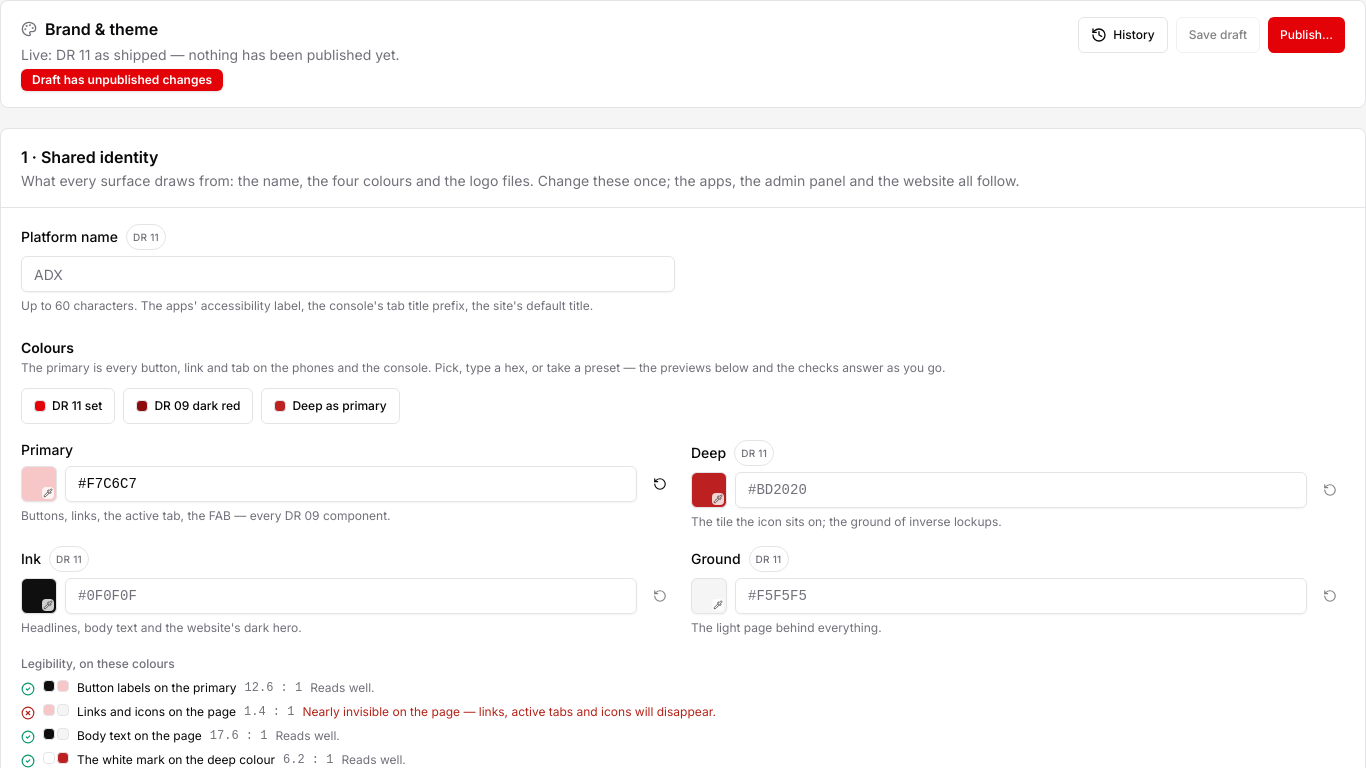
Test: saving and publishing › publish shows the flagged checks, sends the note, and re-reads the brand
Click the button with test id "brand-publish-open" at (1306, 35), box [1268, 17, 1345, 53]
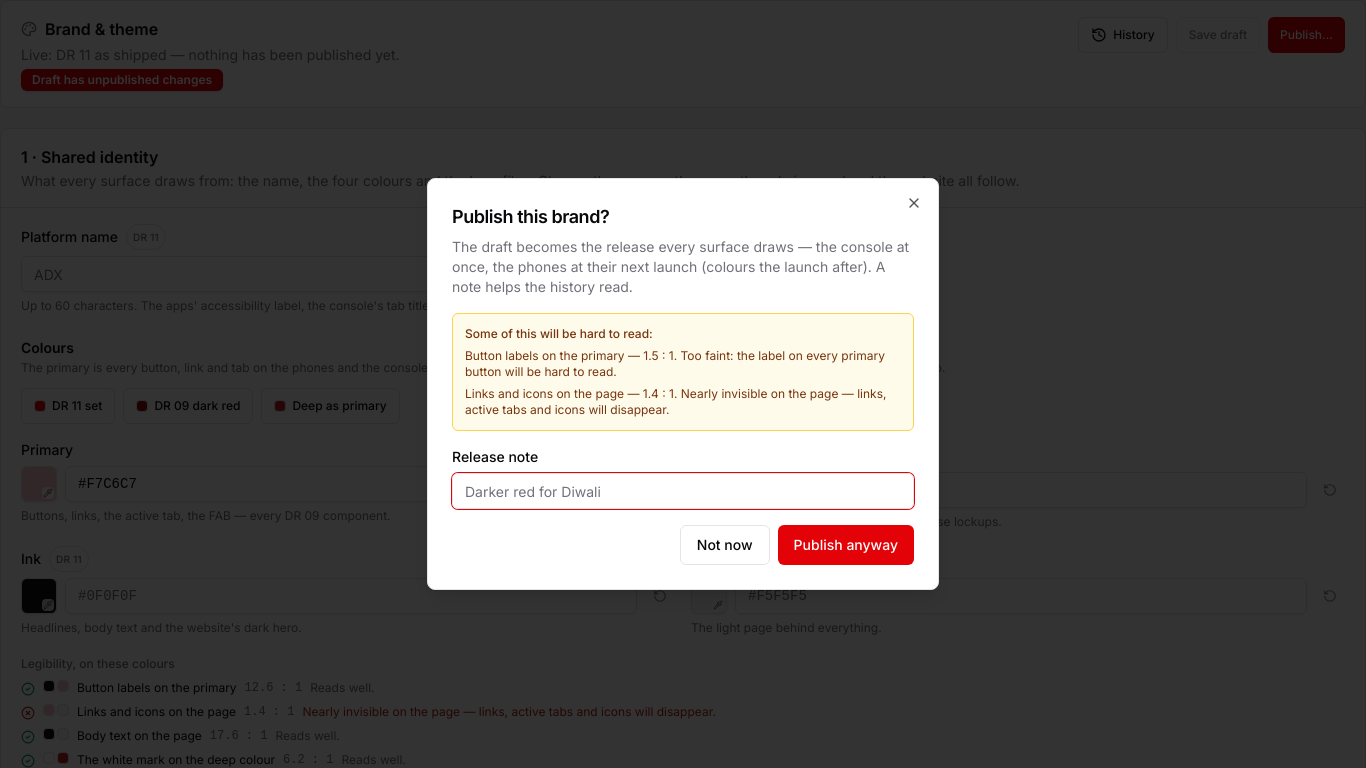
Now the element with test id "brand-publish-warnings" shows "Links and icons on the page", box [465, 386, 624, 401]
Now the button with test id "brand-publish-confirm" reads "Publish anyway", box [778, 525, 914, 565]
Type "Pastel trial" into the field labelled "Release note" at (683, 491), box [452, 473, 914, 509]
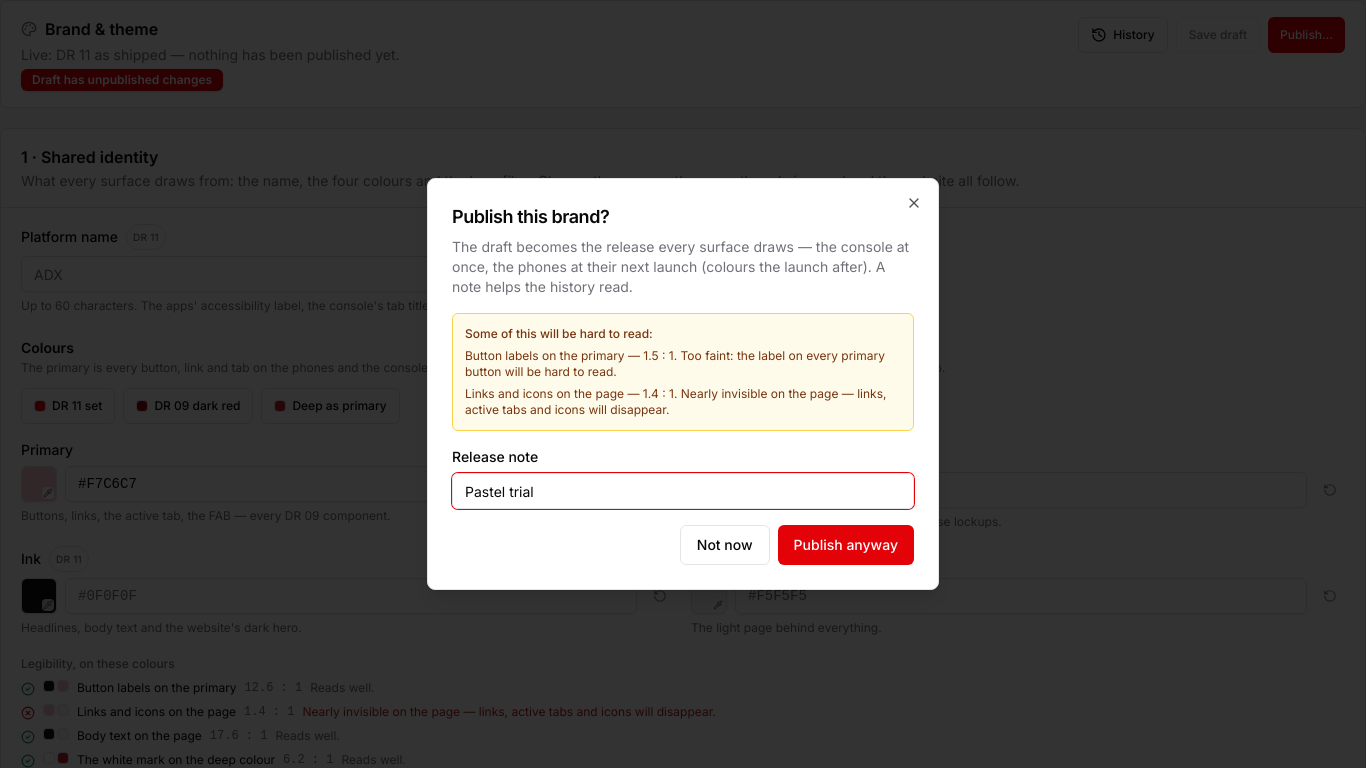
Click the button with test id "brand-publish-confirm" at (846, 545), box [778, 525, 914, 565]
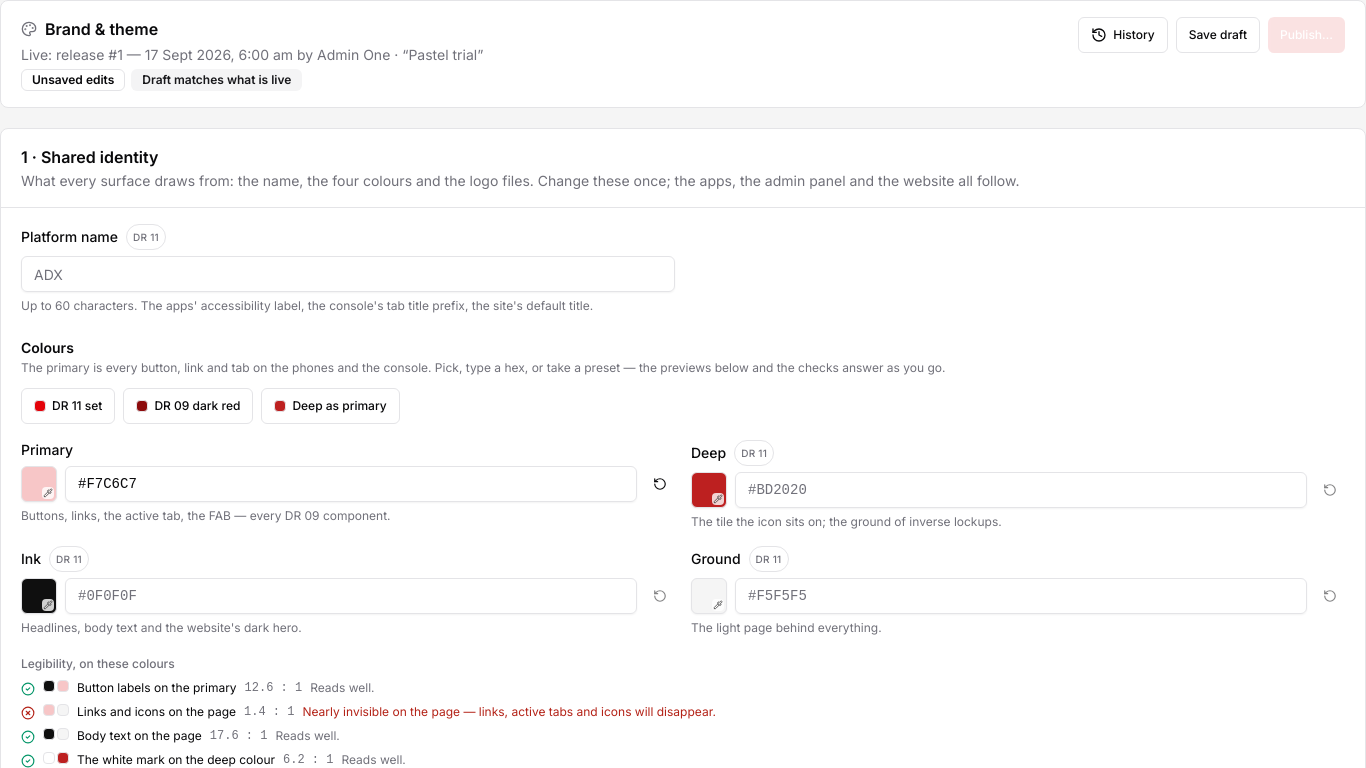
Now the text with test id "brand-status" shows "release #1", box [21, 46, 483, 63]
